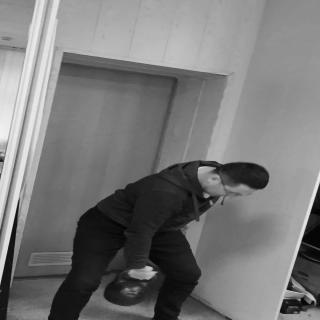kettlebell: (105, 269, 159, 308)
